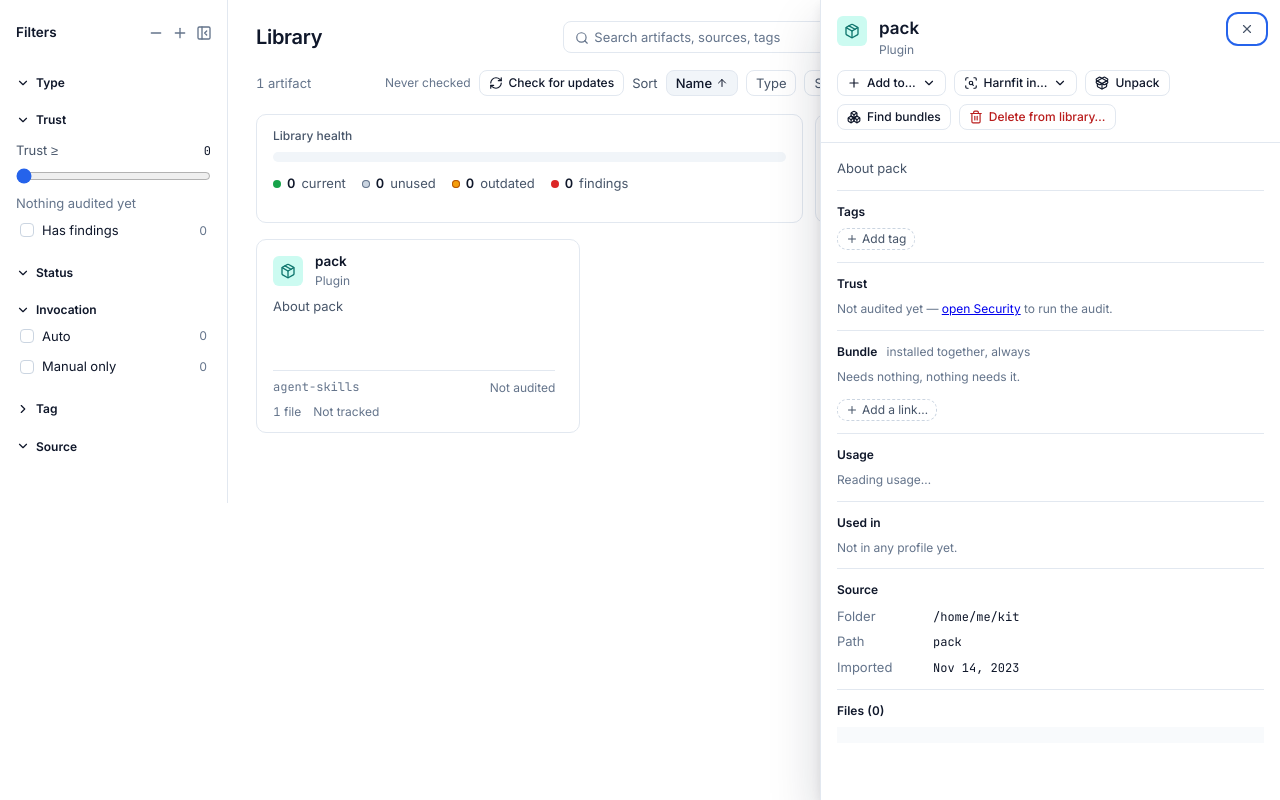
Test: unpacking a whole plugin › changes nothing when the confirm is cancelled
Step 1. Click the button "Unpack" → (1128,83), box x1=1086 y1=70 x2=1170 y2=96
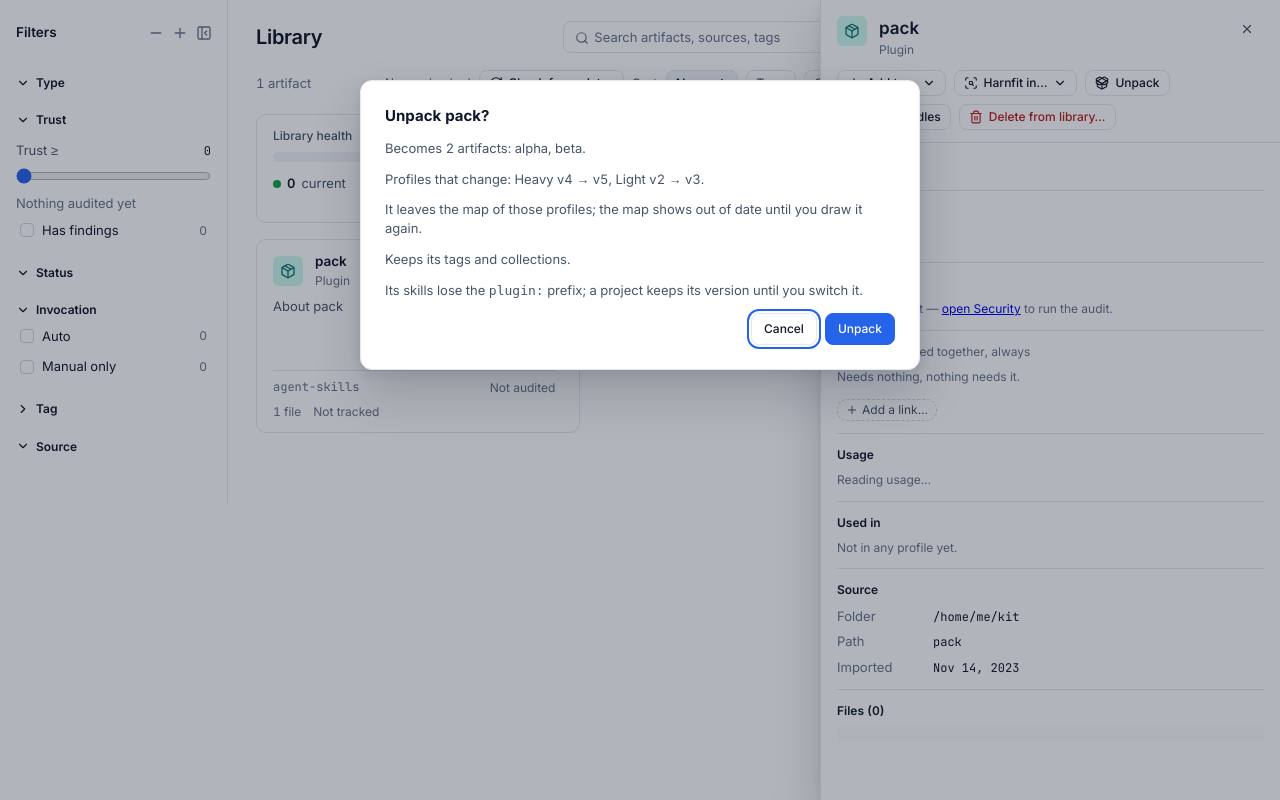
Step 2. Click the button "Cancel" → (784,329), box x1=751 y1=313 x2=817 y2=345
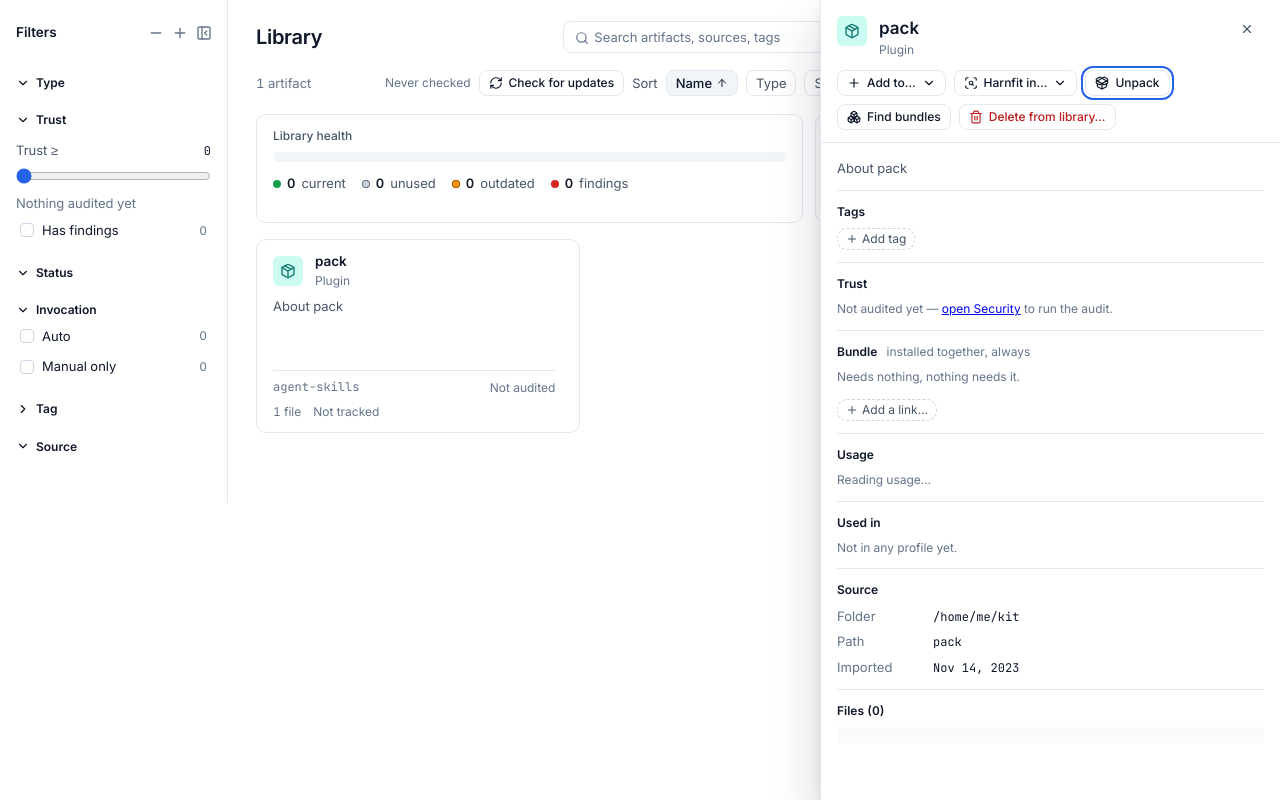
Now the heading "Unpack pack" is gone
